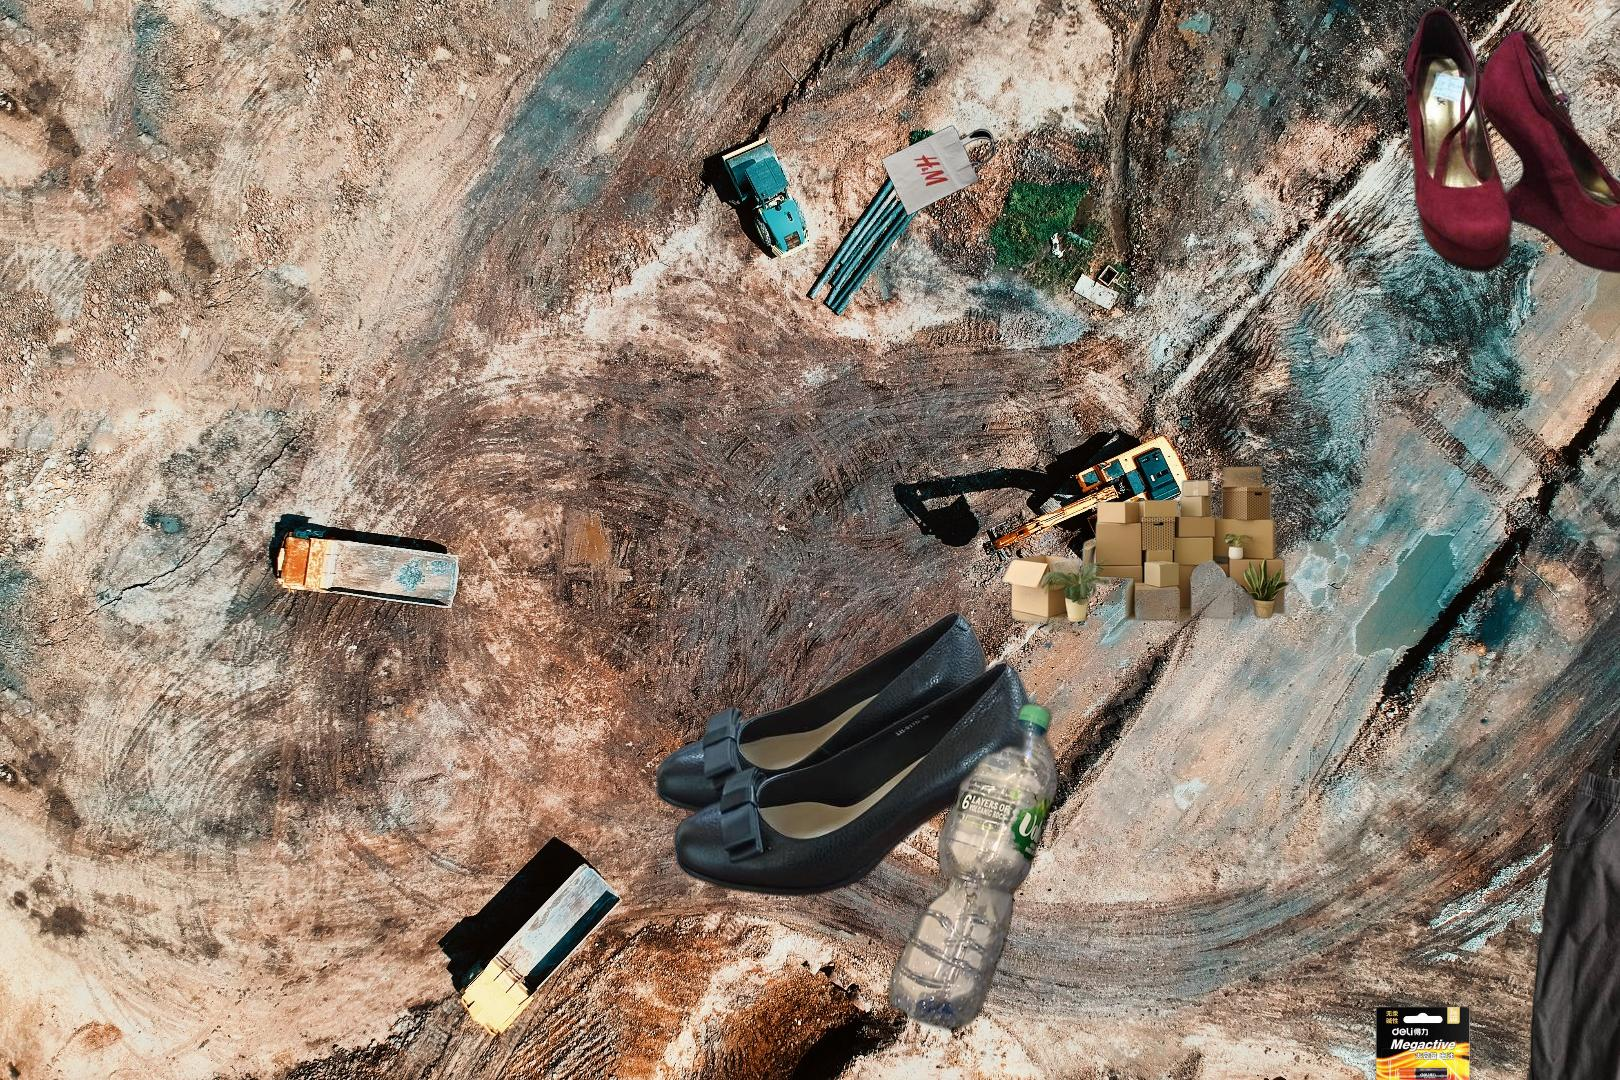battery: (1373, 1004, 1473, 1080)
clothes: (1516, 761, 1620, 1080)
paper-bag: (877, 123, 999, 217)
plastic-bottles: (885, 698, 1063, 1037)
shoes: (653, 607, 1039, 899), (1395, 2, 1620, 277)
trashbox-cardboard: (998, 463, 1292, 655)
